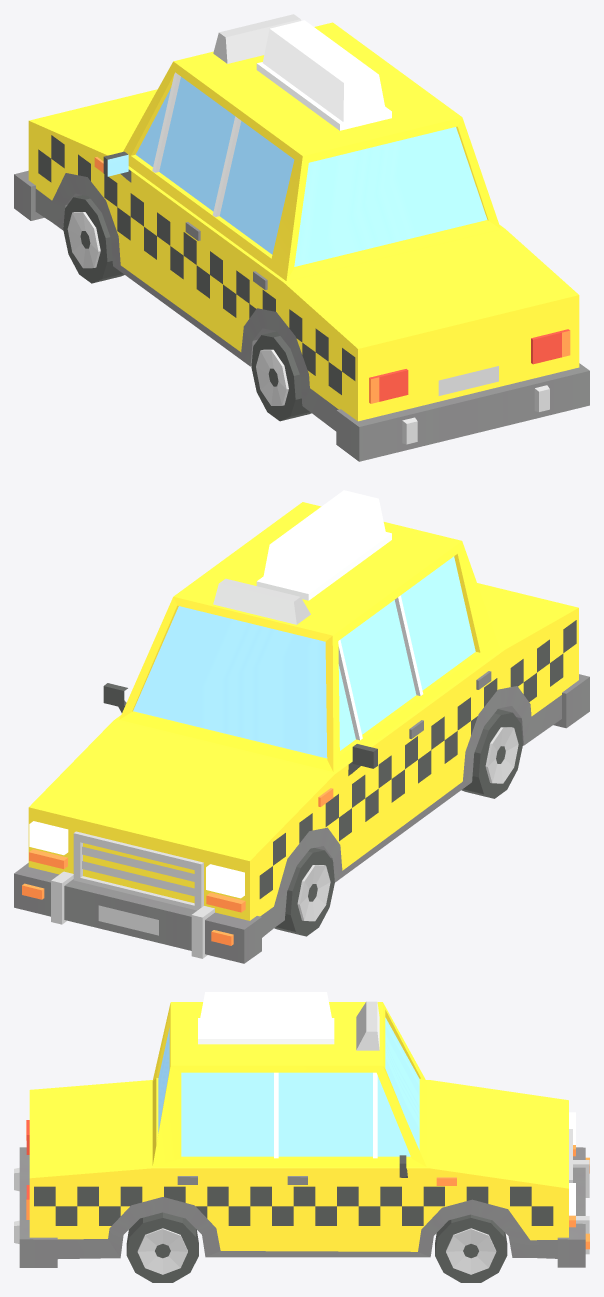
File: transport_purpose_taxi.003.glb
The picture shows the model from 3 angles, top to bottom: view 1: azimuth 30°, elevation 25°; view 2: azimuth 150°, elevation 25°; view 3: azimuth 270°, elevation 25°; orthographic projection. The views are drawn at different scales.
Parts seen in each view (by area): view 1: transport_purpose.003(Clone); view 2: transport_purpose.003(Clone); view 3: transport_purpose.003(Clone).
Part boxes in pixels (x1,y1,x2,y2): transport_purpose.003(Clone): (14, 14, 589, 461); transport_purpose.003(Clone): (14, 490, 589, 963); transport_purpose.003(Clone): (14, 992, 589, 1282).
Bounding box in the file's own units: 1.48 × 1.52 × 3.33.
Materials: 1 (1 with a texture image).
